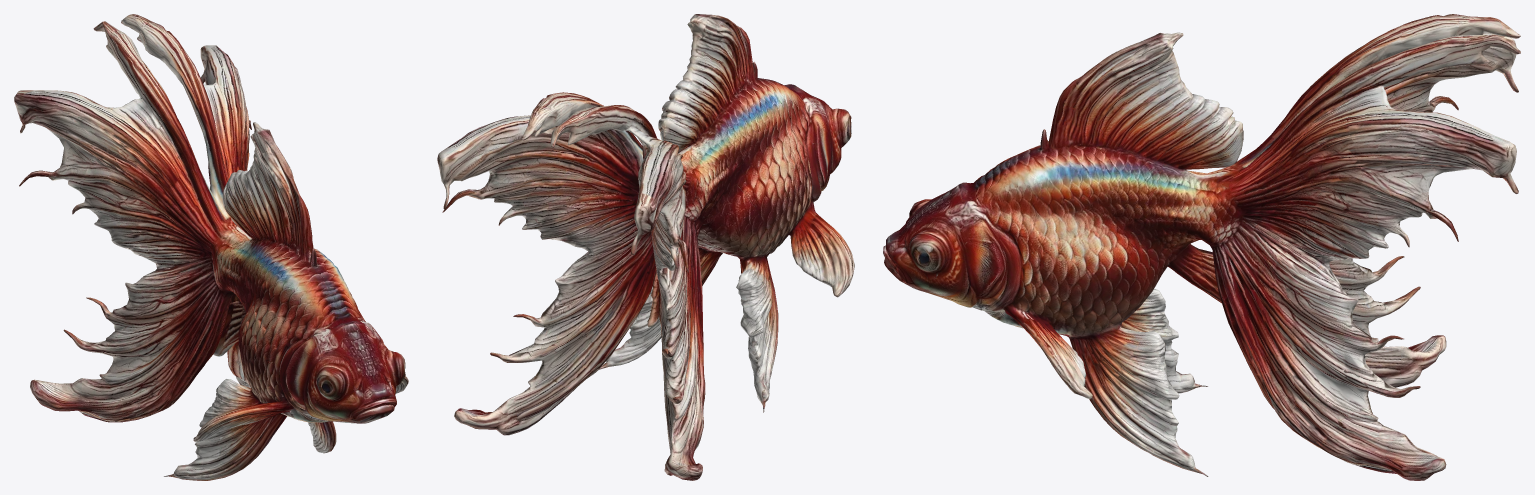
The model's file is goldfish.glb.
3 renders of one model, left to right at view 1: azimuth 30°, elevation 25°; view 2: azimuth 150°, elevation 25°; view 3: azimuth 270°, elevation 25°, orthographic. The views are drawn at different scales.
Visible parts, largest first — view 1: mesh_0; view 2: mesh_0; view 3: mesh_0.
Part boxes in pixels (x1=…): mesh_0: x1=14, y1=14, x2=408, y2=480; mesh_0: x1=437, y1=14, x2=854, y2=480; mesh_0: x1=883, y1=14, x2=1520, y2=480.
Bounding box in the file's own units: 0.929 × 1.33 × 1.9.
1 material, 1 textured.
